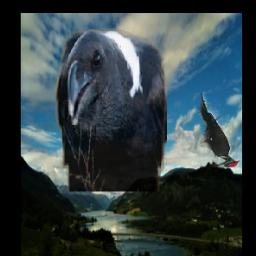Crow: (56, 28, 168, 193)
Woodpecker: (195, 93, 240, 168)
